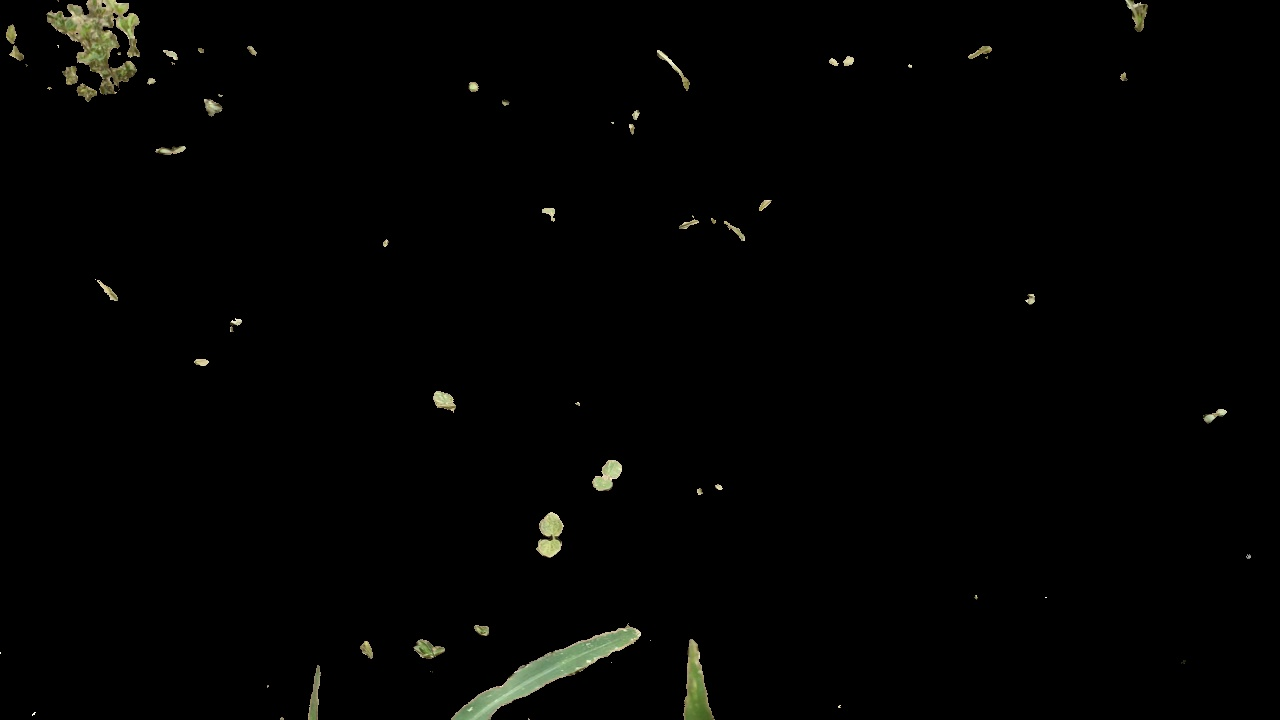crop: (262, 585, 649, 720), (666, 614, 745, 720)
weed: (41, 1, 158, 105), (535, 508, 567, 560), (819, 48, 863, 75), (589, 455, 621, 489), (431, 384, 462, 419), (411, 637, 446, 665), (1203, 399, 1229, 427)
